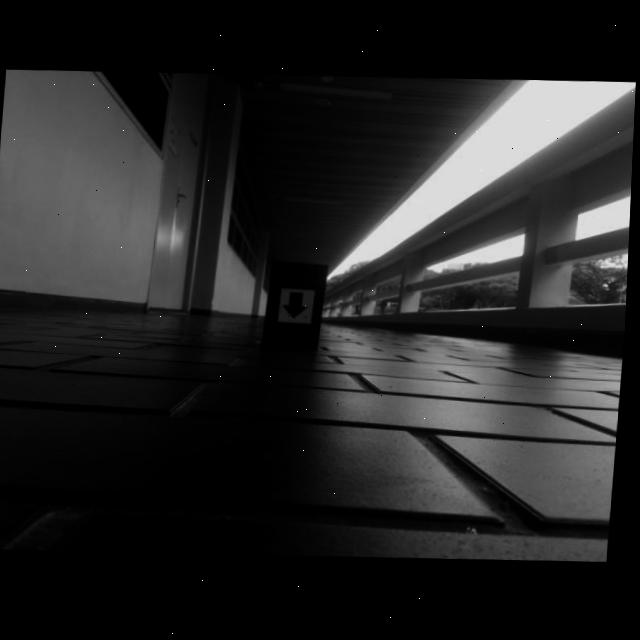DOWN: (284, 292, 312, 320)
